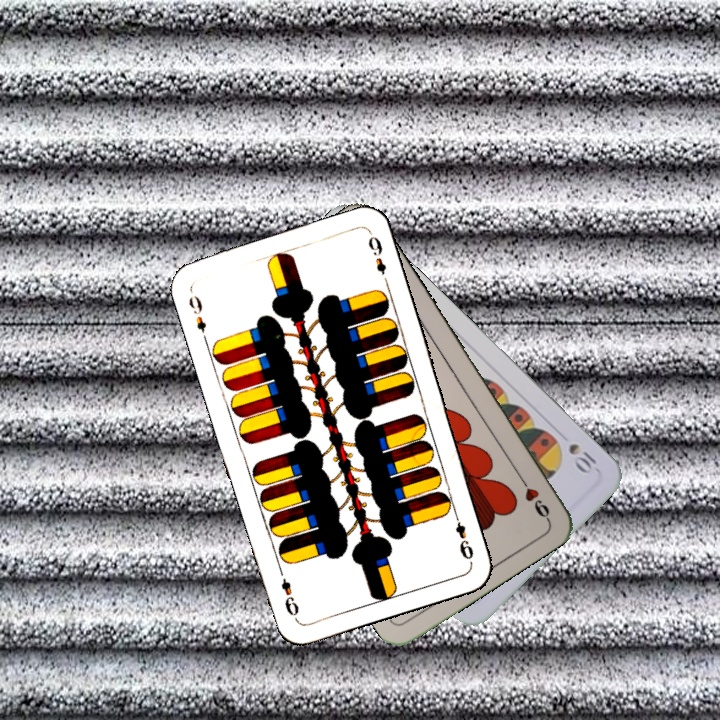E9: (449, 507, 477, 565), (184, 291, 209, 335)
H9: (514, 470, 553, 523)
S10: (564, 439, 601, 477)
